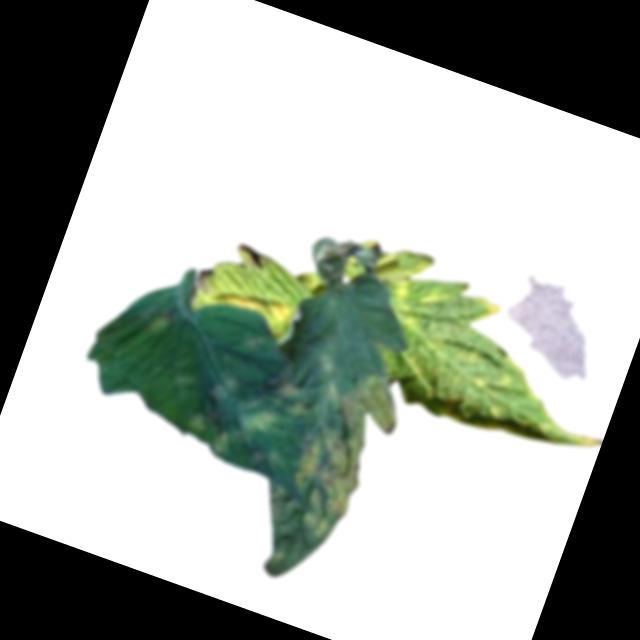Leaf_Mold: (346, 245, 639, 471), (242, 351, 410, 599), (177, 333, 320, 481), (198, 275, 294, 340)
